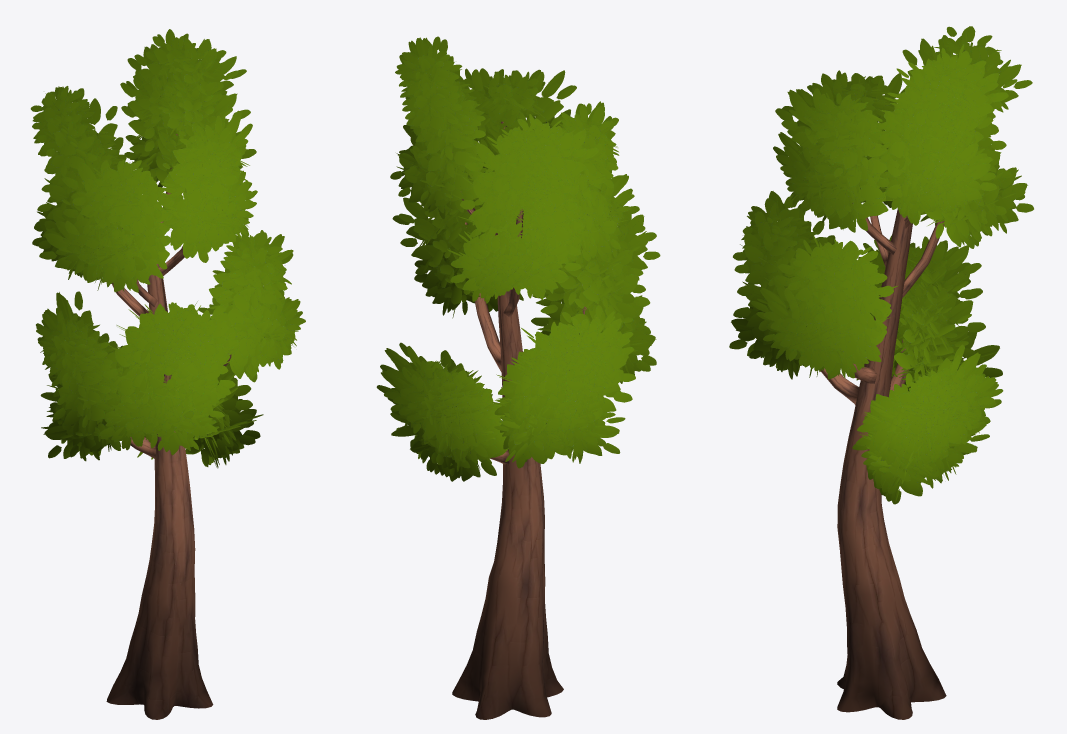
Rendered from CommonTree_3.glb.
The picture shows the model from 3 angles, left to right: view 1: azimuth 30°, elevation 25°; view 2: azimuth 150°, elevation 25°; view 3: azimuth 270°, elevation 25°; orthographic projection. The views are drawn at different scales.
Parts seen in each view (by area): view 1: CommonTree_3; view 2: CommonTree_3; view 3: CommonTree_3.
Part boxes in pixels (<box>): CommonTree_3: <box>30,29,305,719</box>; CommonTree_3: <box>376,36,660,719</box>; CommonTree_3: <box>729,26,1033,719</box>.
Bounding box in the file's own units: 4.06 × 9.43 × 4.24.
2 materials, 2 textured.
